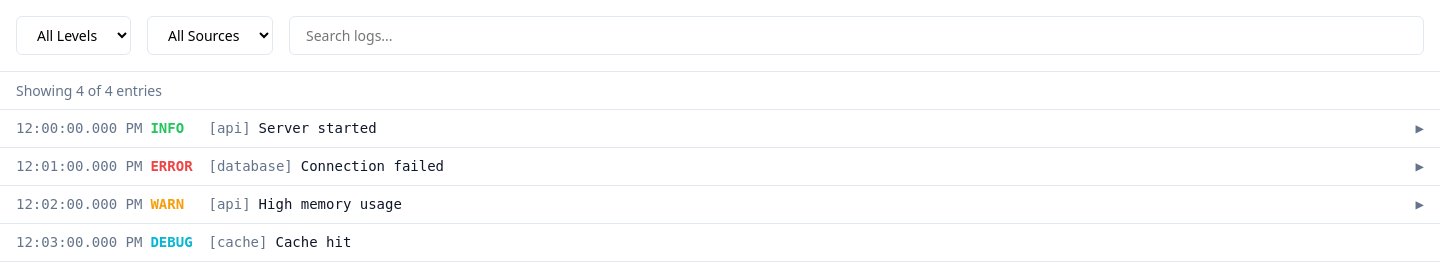
Test case: LogViewer › filters by source
Filter by api source
Select "api" in the 2nd dropdown showing "All Sources" at (210, 36), box top-left (147, 16), bottom-right (273, 55)
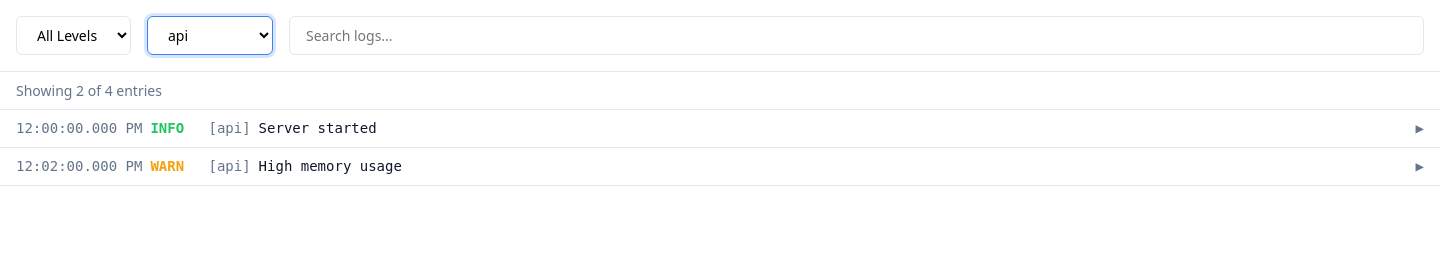
Expected: the text "Server started" is shown, top-left (259, 120), bottom-right (377, 136)
Now the text "Showing 2 of 4 entries" is shown, box top-left (0, 72), bottom-right (1439, 110)
Now the button "Connection failed" is gone
